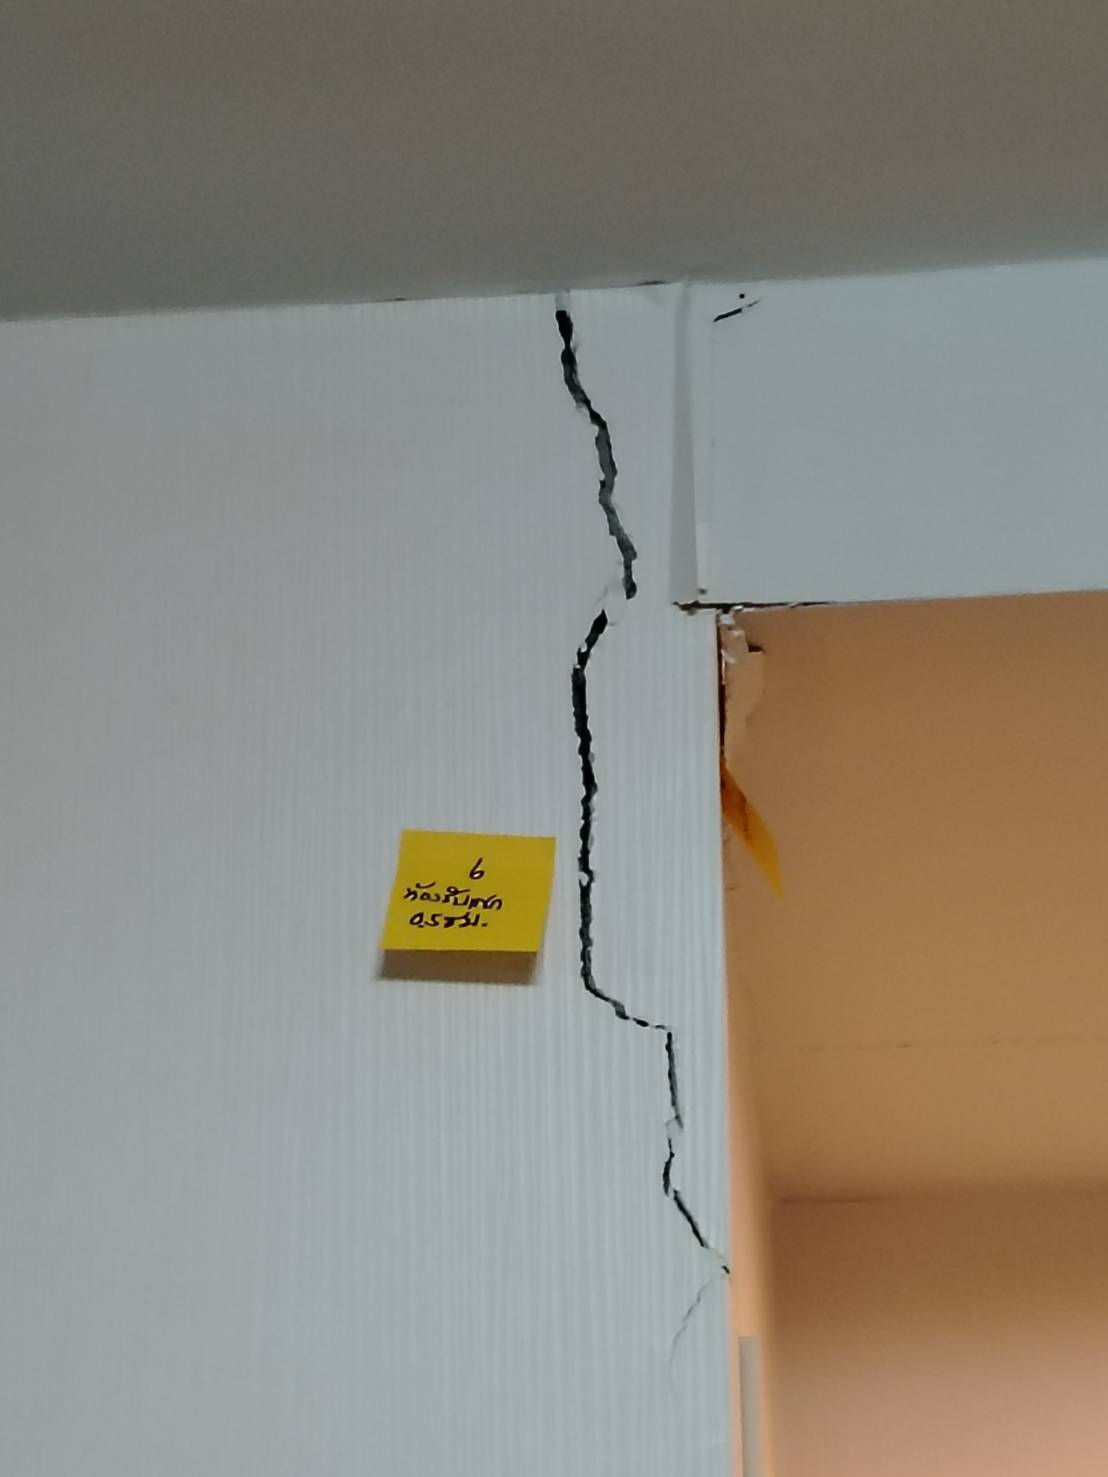Medium: (542, 313, 701, 814)
